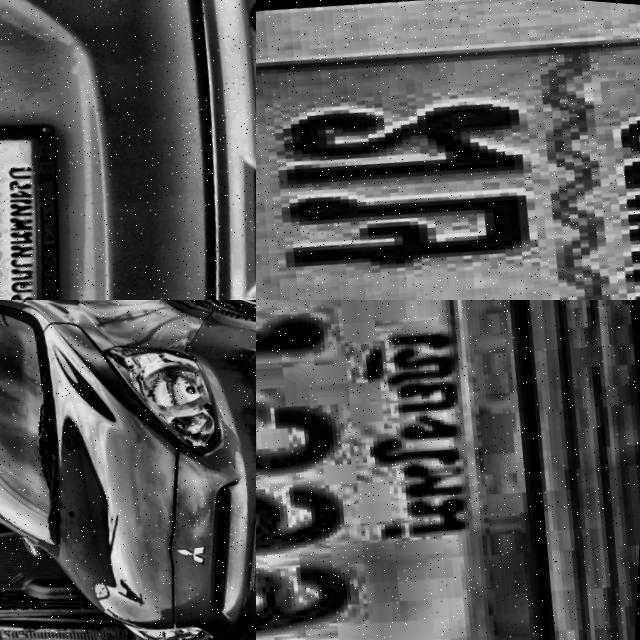license-plate: (256, 300, 603, 640), (256, 0, 640, 300), (0, 96, 90, 300)
